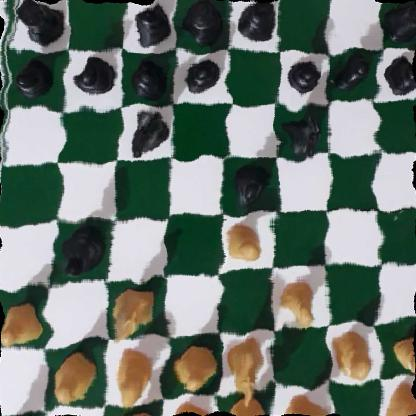black-bishop: (53, 222, 109, 279), (127, 0, 175, 42)
black-king: (236, 0, 278, 48)
black-knight: (128, 106, 168, 156), (284, 110, 321, 159)
black-pawn: (230, 161, 273, 207), (9, 57, 54, 97), (128, 55, 166, 100), (181, 54, 223, 94), (77, 53, 114, 95), (334, 54, 372, 90), (286, 53, 323, 89), (389, 53, 416, 97)
black-queen: (181, 0, 228, 43)
black-rook: (4, 0, 68, 40), (385, 0, 416, 42)
white-bishop: (281, 391, 326, 416), (105, 408, 159, 416)
white-king: (222, 393, 271, 416)
white-knight: (223, 334, 267, 410), (106, 281, 153, 341)
white-pawn: (46, 344, 96, 406), (112, 348, 155, 404), (277, 276, 321, 327), (172, 341, 213, 394), (0, 299, 40, 351), (333, 327, 373, 378), (224, 216, 262, 265), (385, 327, 416, 377)
white-queen: (164, 401, 216, 416)
white-rook: (388, 377, 416, 416), (0, 414, 32, 416)
